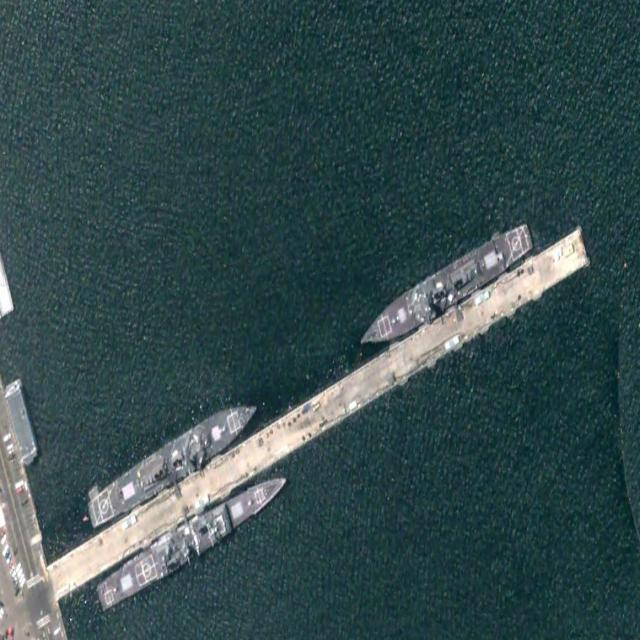Cruiser: (94, 461, 292, 614)
Destroyer: (355, 214, 536, 361), (84, 388, 261, 534)
